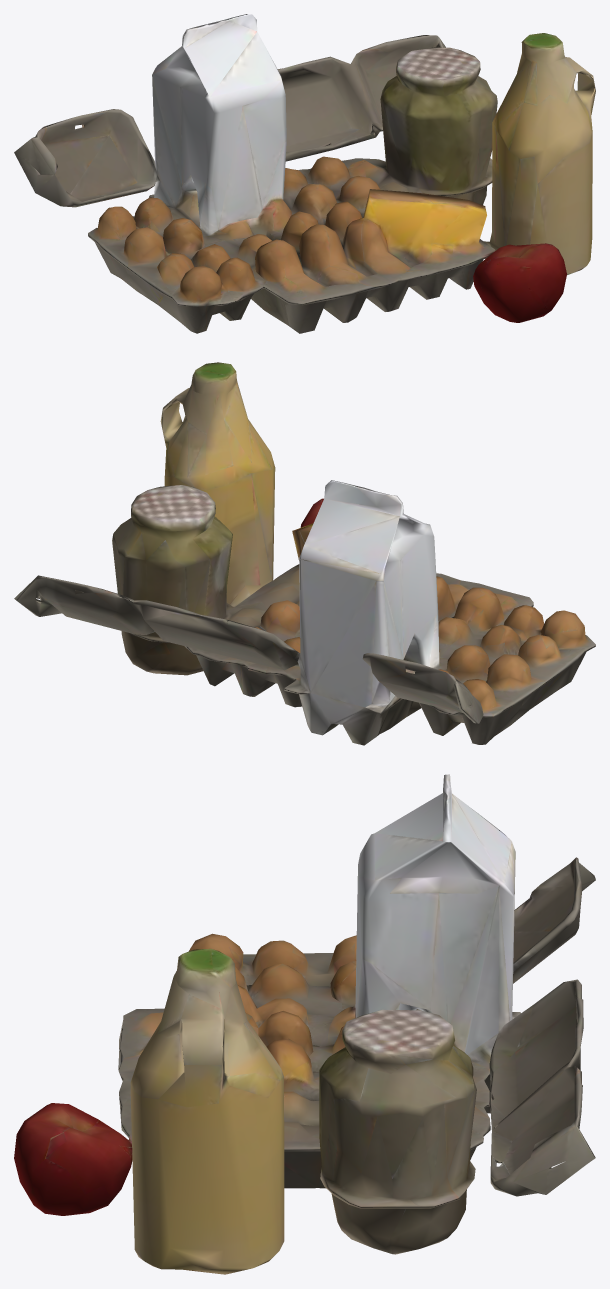
The model's file is fridge_groceries.glb.
The picture shows the model from 3 angles, top to bottom: view 1: azimuth 30°, elevation 25°; view 2: azimuth 150°, elevation 25°; view 3: azimuth 270°, elevation 25°; orthographic projection. The views are drawn at different scales.
Bounding box in the file's own units: 1.9 × 0.9624 × 1.65.
Materials: 1 (1 with a texture image).
